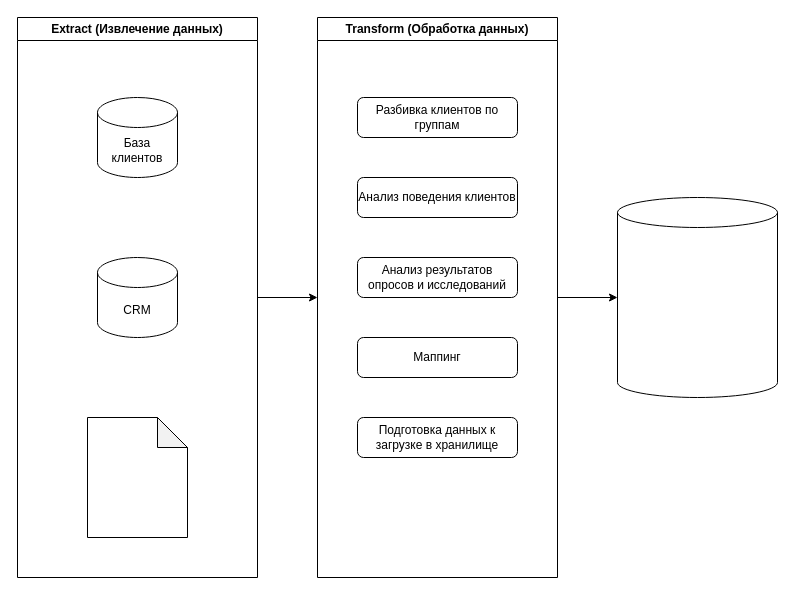
The diagram is 795 pixels wide and 595 high, and some of its shapes have lost their labels. The centre of each missing label's shape, as x and y in pixels:
"Load Хранилище данных" goes at pixel 697 297.
"Опросы и исследования" goes at pixel 137 477.
